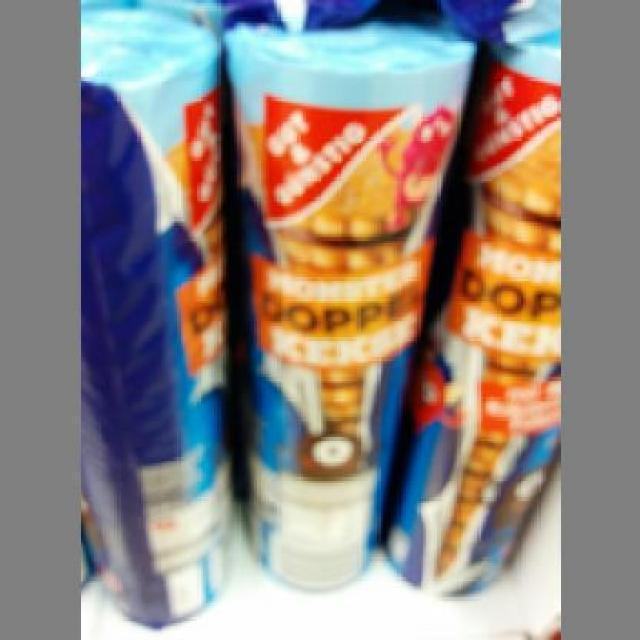Chocolate: (226, 20, 463, 586), (77, 8, 223, 624), (402, 37, 555, 600)
